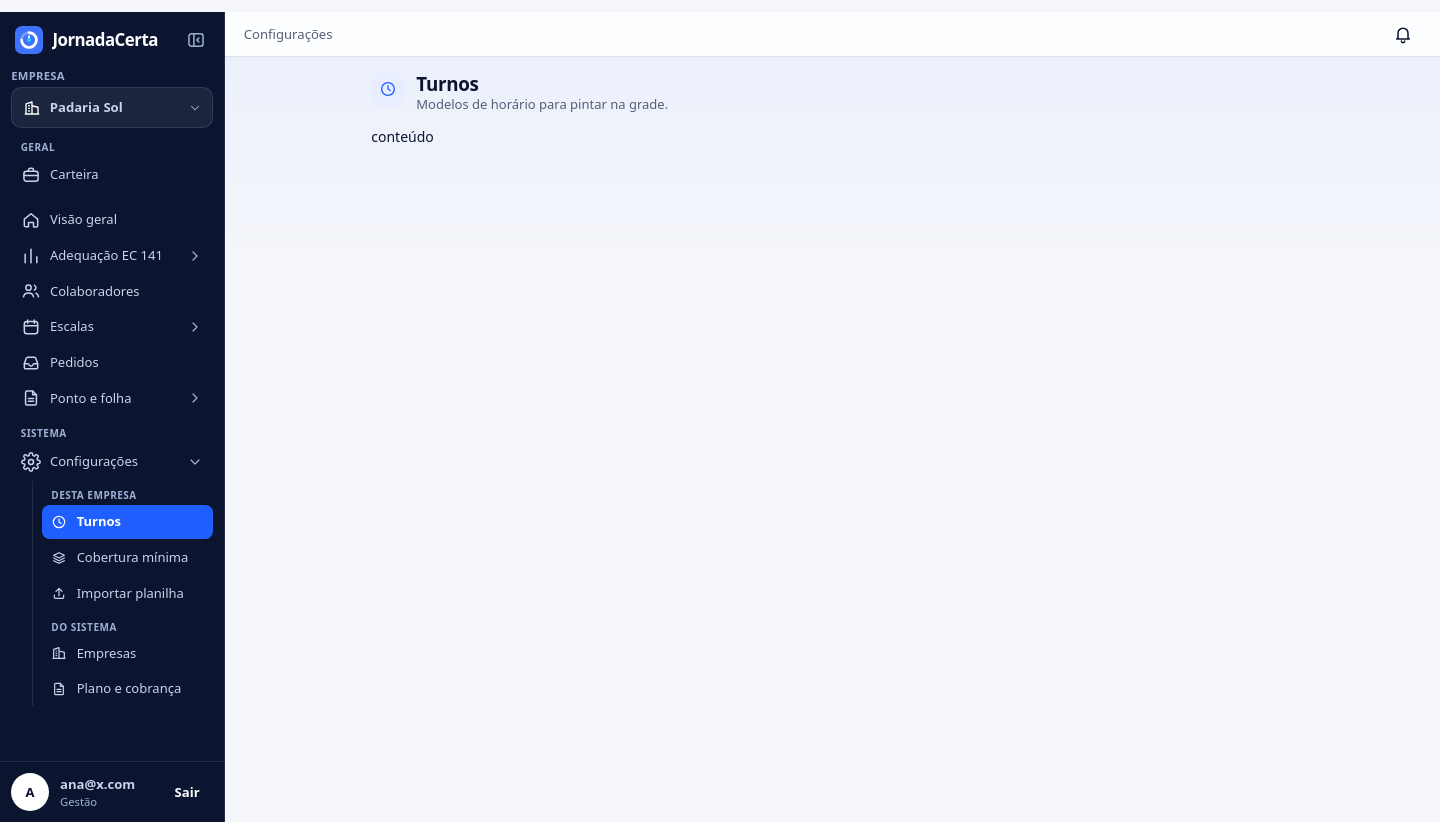
Test: Shell › submenu dinâmico: só um grupo fica aberto; abrir outro fecha o anterior e clicar no aberto o fecha
Click the button "Escalas" at point(112, 327), box [11,310,213,344]
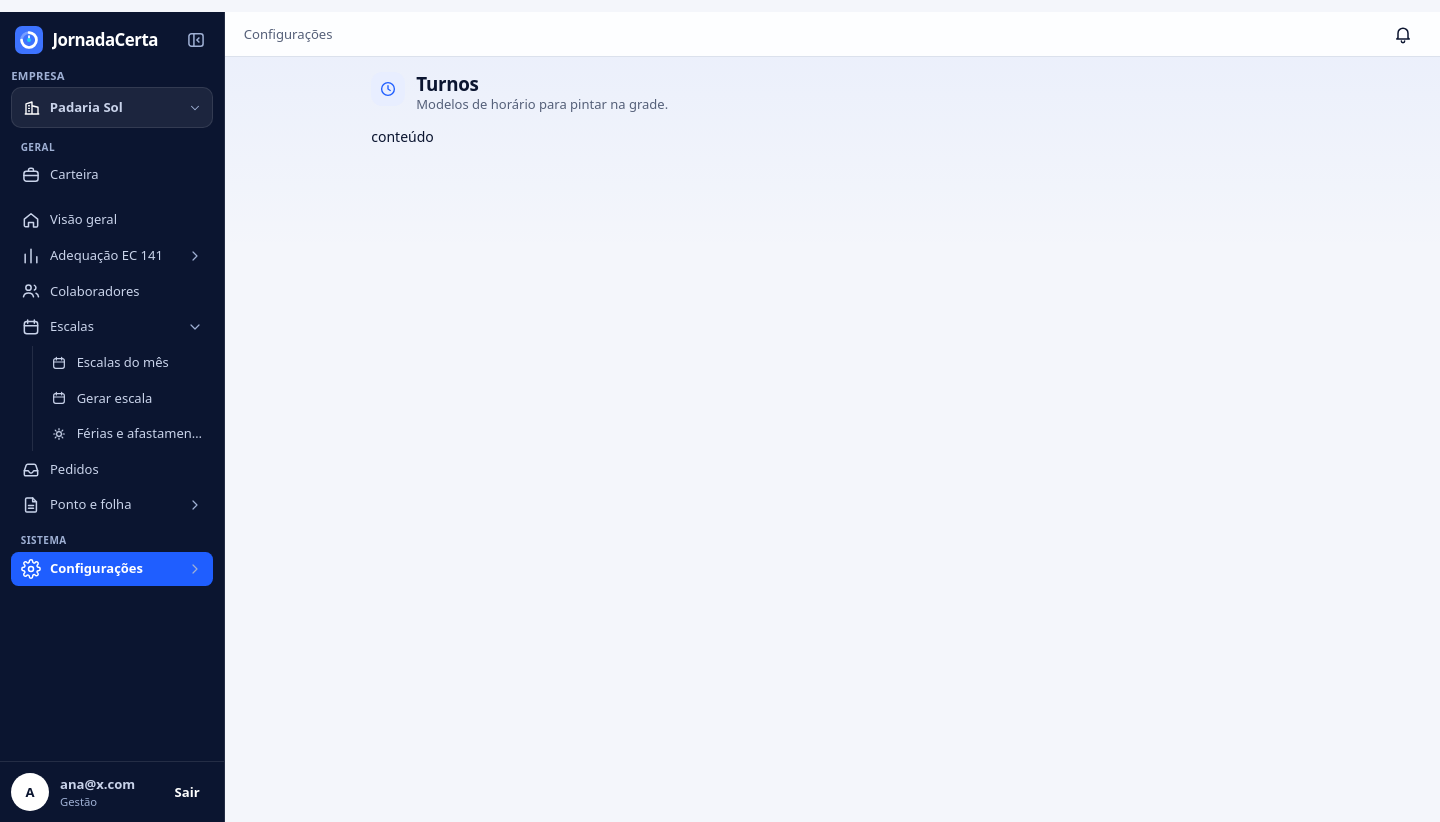
Expected: the button "Escalas" is expanded
Expected: the button "Configurações" is collapsed, [11,552,213,586]
Expected: the link "Gerar escala" is shown, [51,388,152,406]
Click the button "Escalas" at point(112, 327), box [11,310,213,344]
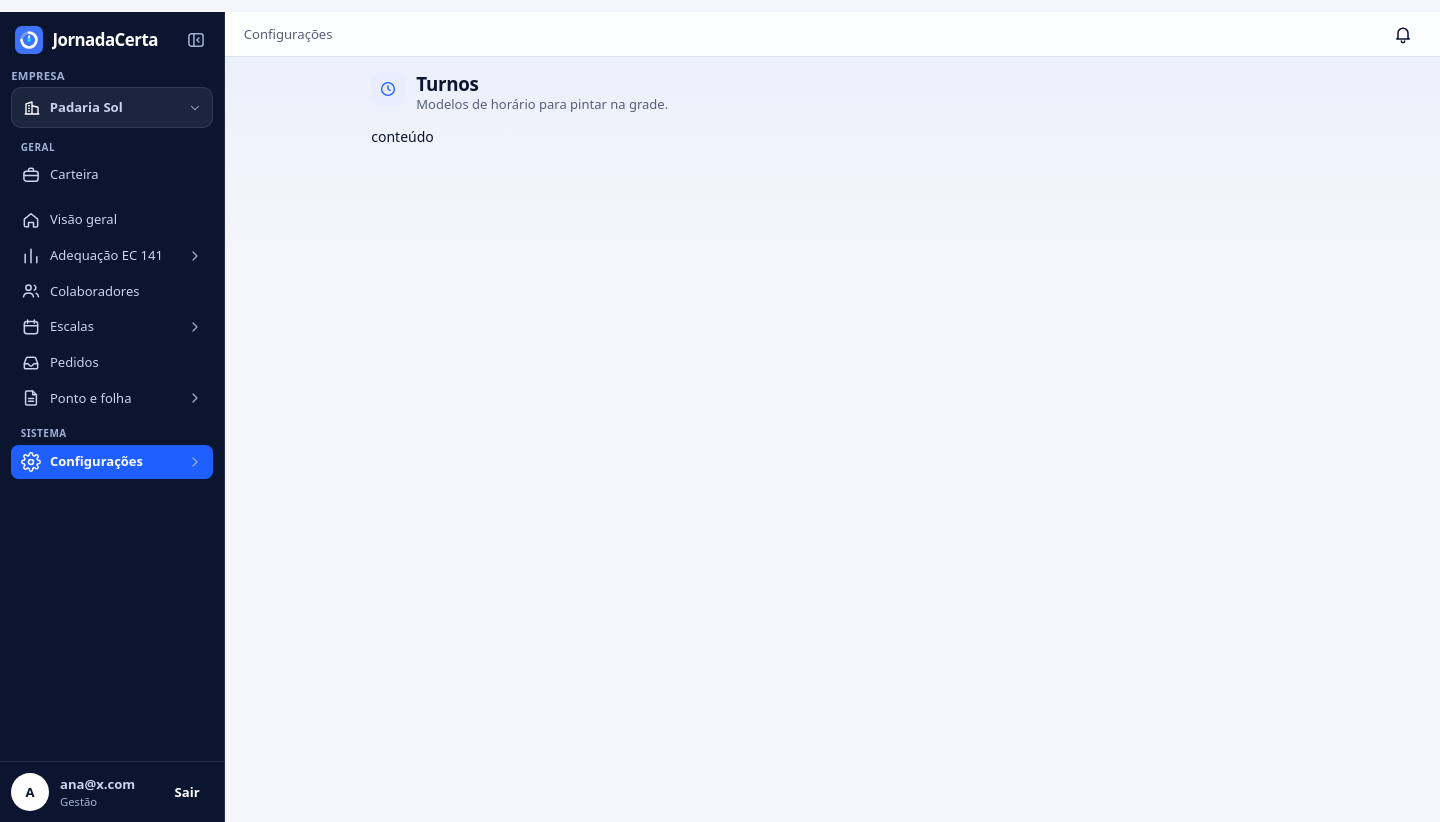
Expected: the button "Escalas" is collapsed, [11,310,213,344]
